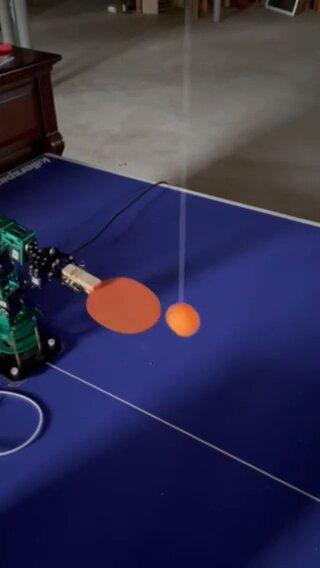oball: (167, 304, 199, 334)
